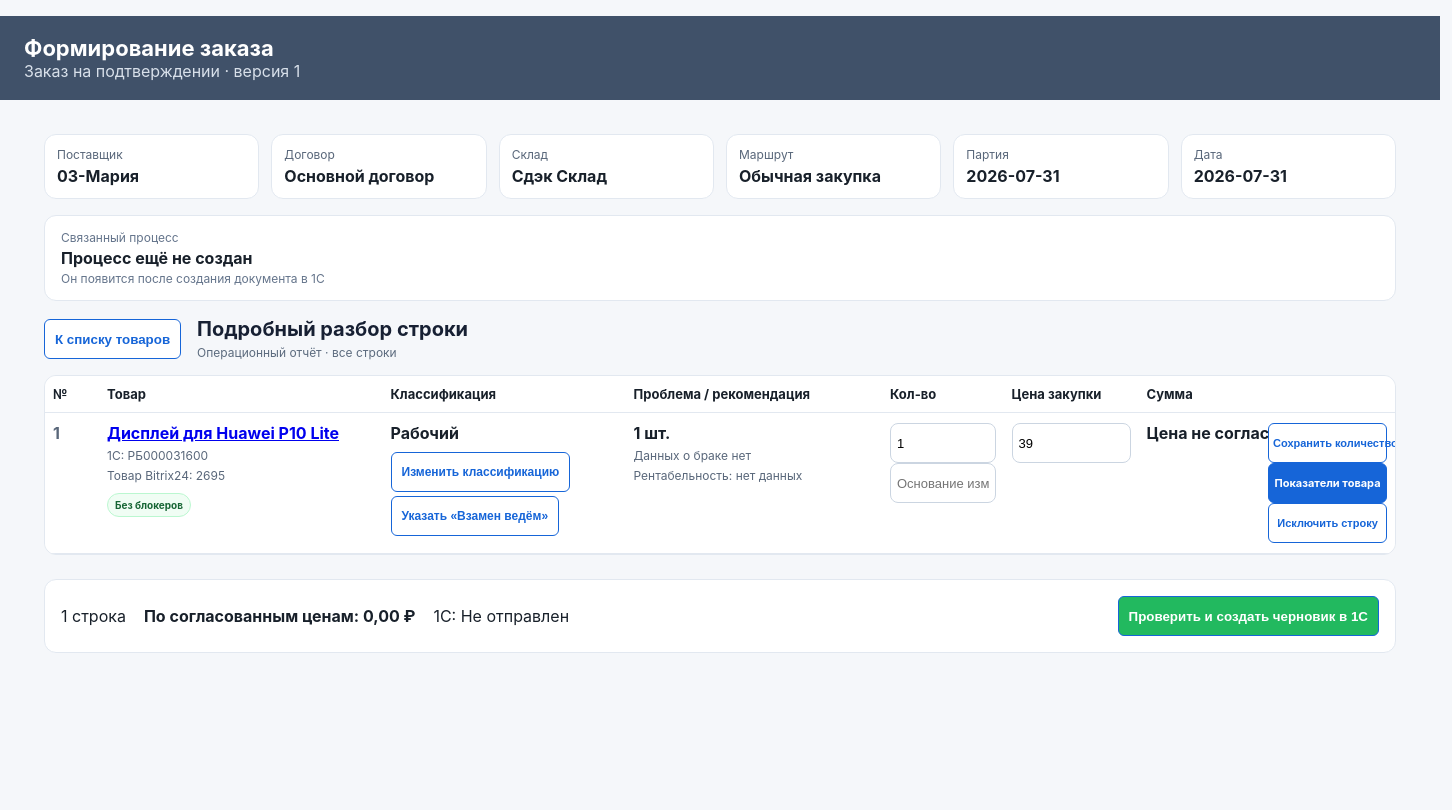
Scenario: ProcurementOrderFormationApp проблемные строки › открывает ручное поле «Взамен ведём» из семейного сигнала
Click the button "Указать «Взамен ведём»" at [475, 516], box [390,496,559,536]
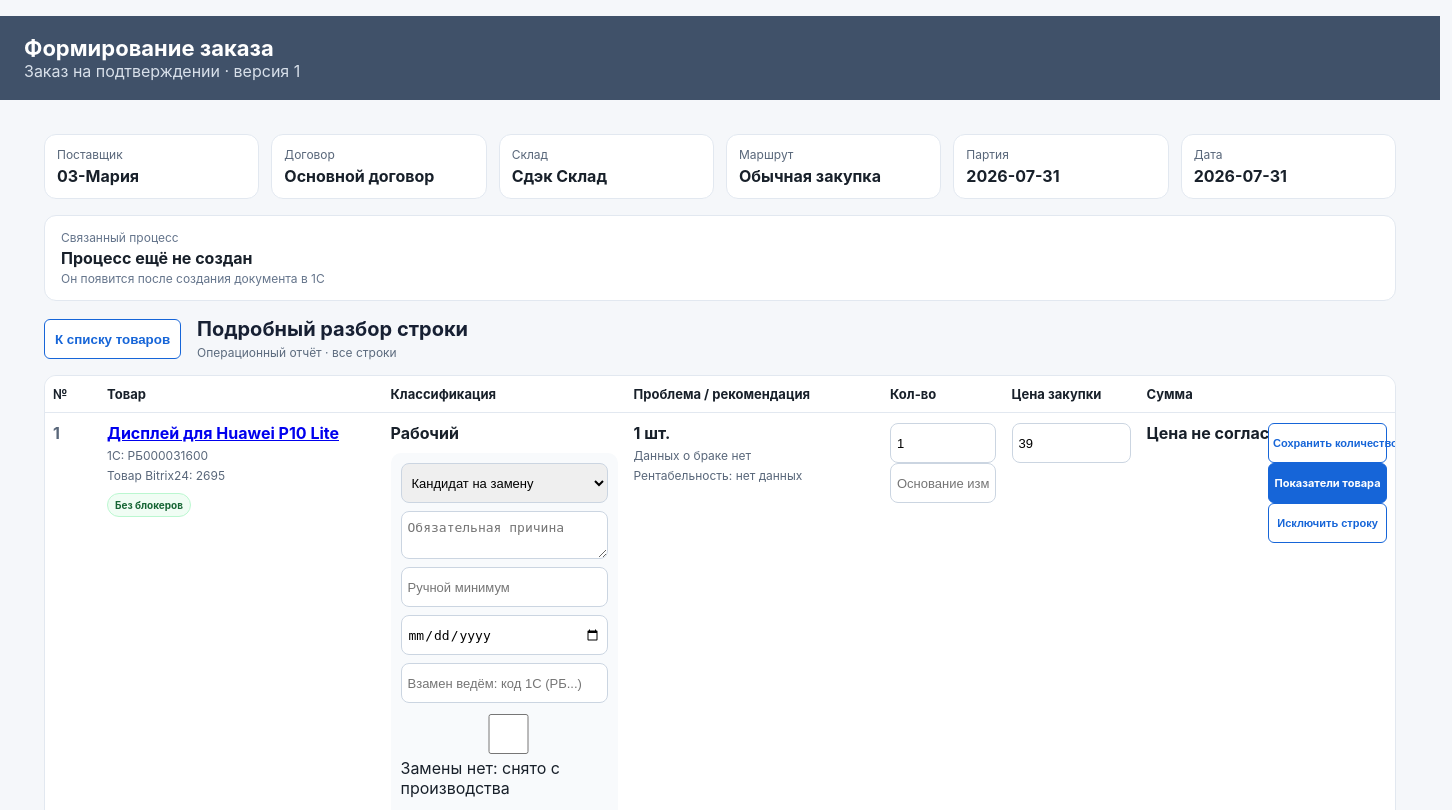
Check: the dropdown named "Новая классификация Дисплей для Huawei P10 Lite" shows "Кандидат на замену", box [400,463,608,503]
Check: the field with placeholder "Взамен ведём: код 1С (РБ...)" is shown, box [400,663,608,703]
